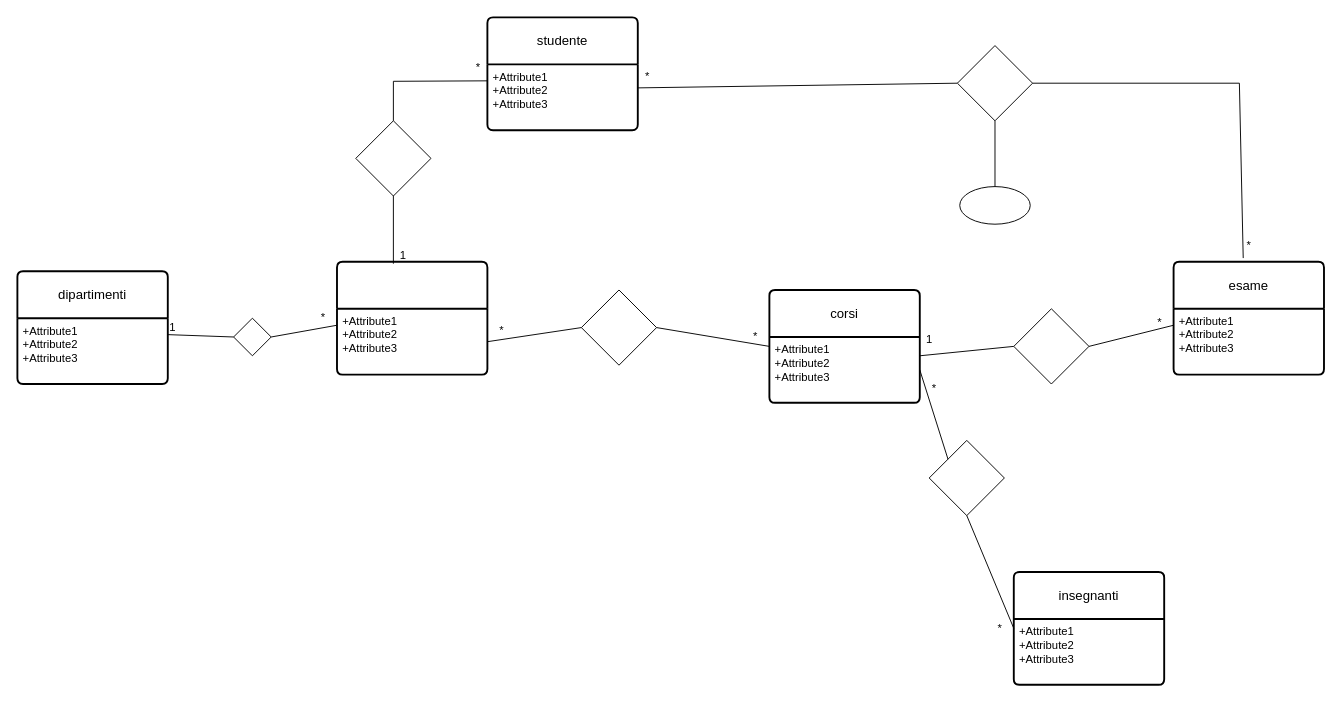
Some shapes in this 1340 by 701 pixel diagram are drawn without their labels. The shapes that lost their labels are listed below. From the top down, each one's box as (x1, y1, x2, y2) in pixels, then its label:
(959, 186, 1030, 224): voto
(336, 260, 488, 375): corsi di laurea
